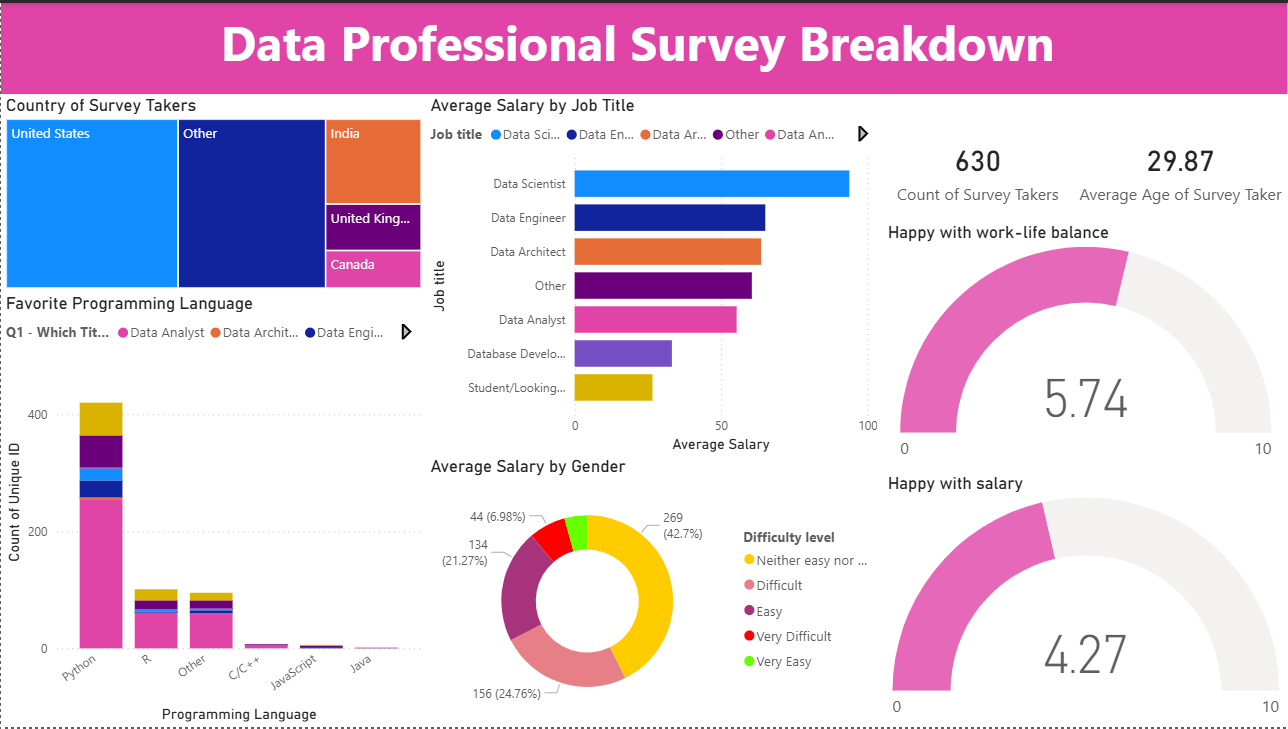

This screenshot's page, from the dashboard's own definition file:
{"tool":"powerbi","page":{"name":"Page 1","canvas":[1280,720],"ordinal":0},"visuals":[{"type":"textbox","box":[0,0,1279.5,90.9],"z":0},{"type":"card","fields":{"Values":["Count(Data Professional Survey.Unique ID)"]},"box":[876.7,90.9,187.8,148.4],"z":1000},{"type":"card","fields":{"Values":["Avg(Data Professional Survey.Q10 - Current Age)"]},"box":[1064.5,90.9,215,148.4],"z":2000},{"type":"barChart","title":"Average Salary by Job Title","fields":{"Category":["Data Professional Survey.Q1 - Which Title Best Fits your Current Role?.1"],"Y":["Avg(Data Professional Survey.Average Salary)"],"Series":["Data Professional Survey.Q1 - Which Title Best Fits your Current Role?.1"]},"box":[422.5,90.9,454.3,360.4],"z":3000},{"type":"columnChart","title":"Favorite Programming Language","fields":{"Category":["Data Professional Survey.Q5 - Favorite Programming Language.1"],"Y":["CountNonNull(Data Professional Survey.Unique ID)"],"Series":["Data Professional Survey.Q1 - Which Title Best Fits your Current Role?.1"]},"box":[0,287.7,422.5,431.5],"z":4000},{"type":"treemap","title":"Country of Survey Takers","fields":{"Group":["Data Professional Survey.Q11 - Which Country do you live in?.1"],"Values":["CountNonNull(Data Professional Survey.Q11 - Which Country do you live in?.1)"]},"box":[0,90.9,422.5,196.8],"z":5000},{"type":"gauge","title":"Happy with work-life balance","fields":{"Y":["Avg(Data Professional Survey.Q6 - How Happy are you in your Current Position with the following? (Work/Life Balance))"],"MinValue":["Min(Data Professional Survey.Q6 - How Happy are you in your Current Position with the following? (Work/Life Balance))1"],"MaxValue":["Max(Data Professional Survey.Q6 - How Happy are you in your Current Position with the following? (Work/Life Balance))2"]},"box":[876.7,218,402.8,245.3],"z":6000},{"type":"gauge","title":"Happy with salary","fields":{"Y":["Avg(Data Professional Survey.Q6 - How Happy are you in your Current Position with the following? (Salary))"],"MinValue":["Min(Data Professional Survey.Q6 - How Happy are you in your Current Position with the following? (Salary))"],"MaxValue":["Max(Data Professional Survey.Q6 - How Happy are you in your Current Position with the following? (Salary))"]},"box":[876.7,466.4,402.8,252.9],"z":7000},{"type":"donutChart","title":" Average Salary by Gender","fields":{"Category":["Data Professional Survey.Q7 - How difficult was it for you to break into Data?"],"Y":["CountNonNull(Data Professional Survey.Q7 - How difficult was it for you to break into Data?)"]},"box":[422.2,450.5,455,268.5],"z":8000}]}

Visuals, with their boxes in screenshot pixels (x1, y1, x2, y2), scaled from the page's 1280x720 canvas onto the 1288x729 screenshot:
textbox: bbox=[0, 0, 1287, 92]
card - Count(Data Professional Survey.Unique ID): bbox=[882, 92, 1071, 242]
card - Avg(Data Professional Survey.Q10 - Current Age): bbox=[1071, 92, 1287, 242]
"Average Salary by Job Title" barChart: bbox=[425, 92, 882, 457]
"Favorite Programming Language" columnChart: bbox=[0, 291, 425, 728]
"Country of Survey Takers" treemap: bbox=[0, 92, 425, 291]
"Happy with work-life balance" gauge: bbox=[882, 221, 1287, 469]
"Happy with salary" gauge: bbox=[882, 472, 1287, 728]
" Average Salary by Gender" donutChart: bbox=[425, 456, 883, 728]
